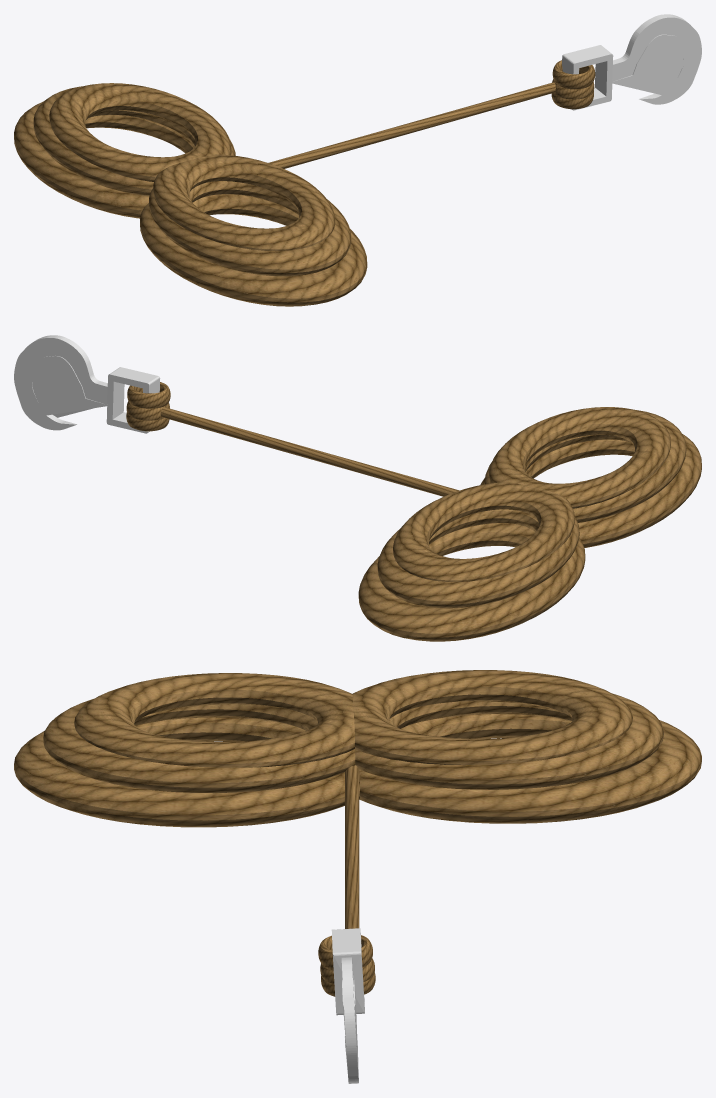
The model's file is Arnes.fbx.
The picture shows the model from 3 angles, top to bottom: view 1: azimuth 30°, elevation 25°; view 2: azimuth 150°, elevation 25°; view 3: azimuth 270°, elevation 25°; orthographic projection. The views are drawn at different scales.
Parts seen in each view (by area): view 1: Cuerda 2.001; view 2: Cuerda 2.001; view 3: Cuerda 2.001.
Boxes of the visible parts, <box> form: Cuerda 2.001: <box>14,14,701,306</box>; Cuerda 2.001: <box>14,335,701,641</box>; Cuerda 2.001: <box>14,670,701,1083</box>.
Bounding box in the file's own units: 577 × 82.42 × 450.
